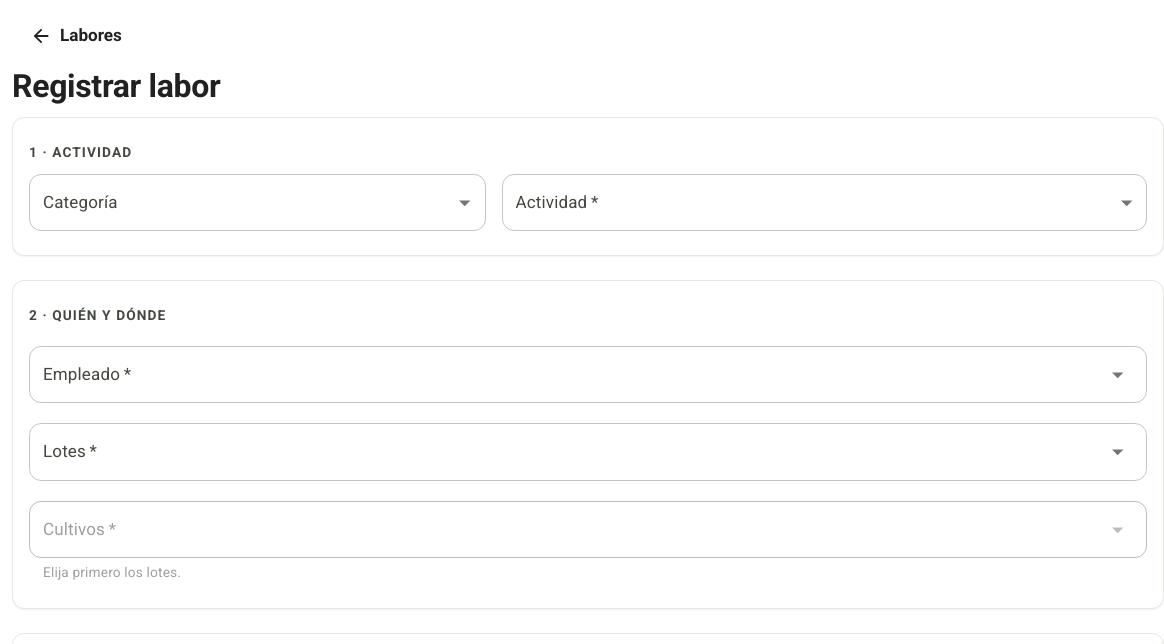
Test: the kilo price › says «—» when the farm has no kilo price anywhere
The width and height of the screenshot is (1164, 644).
Step 1. Click the 2nd dropdown named "Actividad" → (824, 203), box [502,174,1147,231]
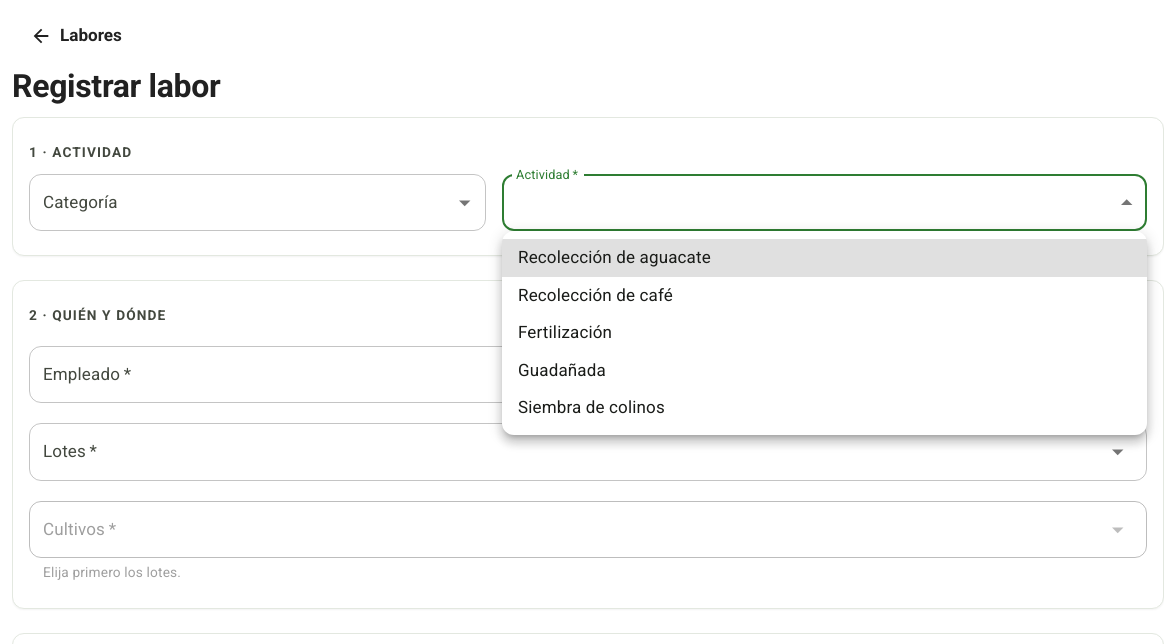
Step 2. Click the option "Recolección de café" → (596, 294), box [518,284,673,304]
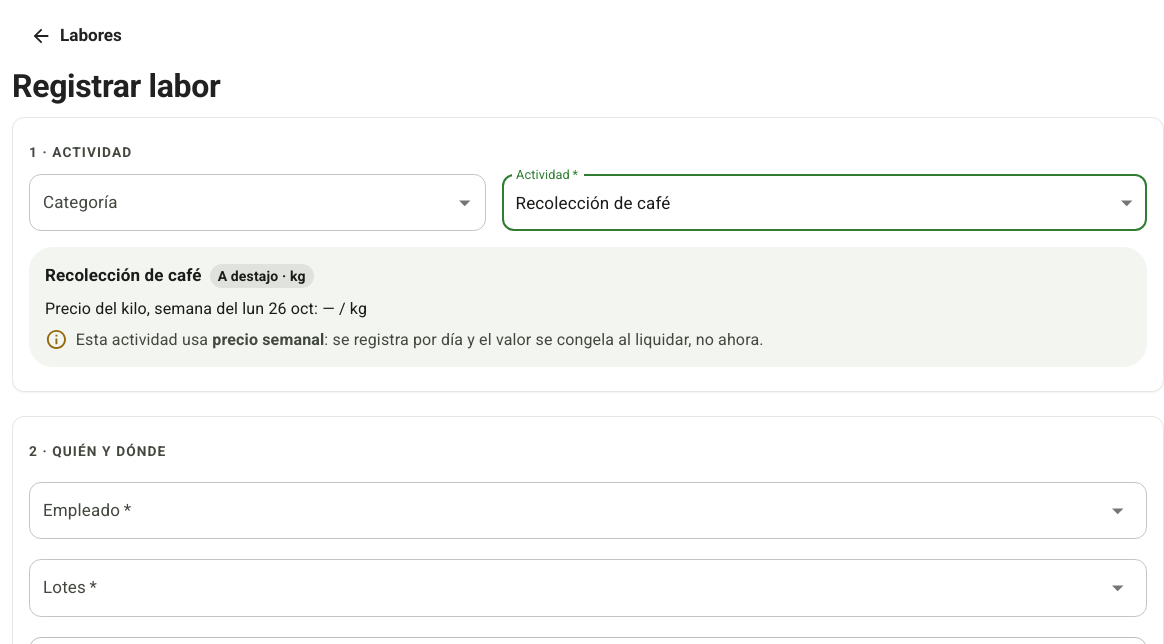
Expected: the text "Precio del kilo, semana del lun 26 oct: — / kg" is shown, [45,299,367,318]
